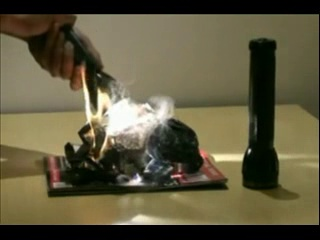fire: (79, 62, 112, 158)
